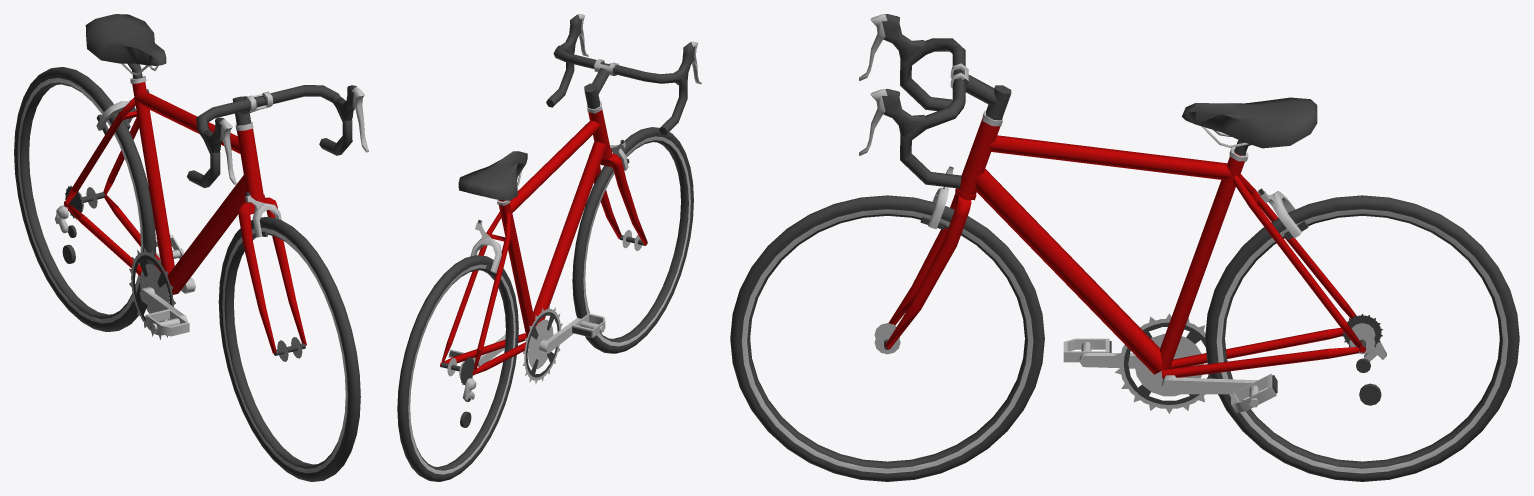
The model's file is bicycle03.fbx.
3 views of the same model, side by side, from view 1: azimuth 30°, elevation 25°; view 2: azimuth 150°, elevation 25°; view 3: azimuth 270°, elevation 25° (orthographic). The views are drawn at different scales.
Visible parts, largest first — view 1: Main_Layer, Empty_Mesh; view 2: Main_Layer, Empty_Mesh; view 3: Main_Layer, Empty_Mesh.
Part boxes in pixels (box(x1,y1,x2,y2)): Main_Layer: box(14, 14, 368, 481); Empty_Mesh: box(139, 234, 195, 336); Main_Layer: box(397, 14, 701, 481); Empty_Mesh: box(448, 313, 605, 366); Main_Layer: box(730, 14, 1519, 481); Empty_Mesh: box(1063, 338, 1277, 412).
Bounding box in the file's own units: 53.63 × 134 × 223.
